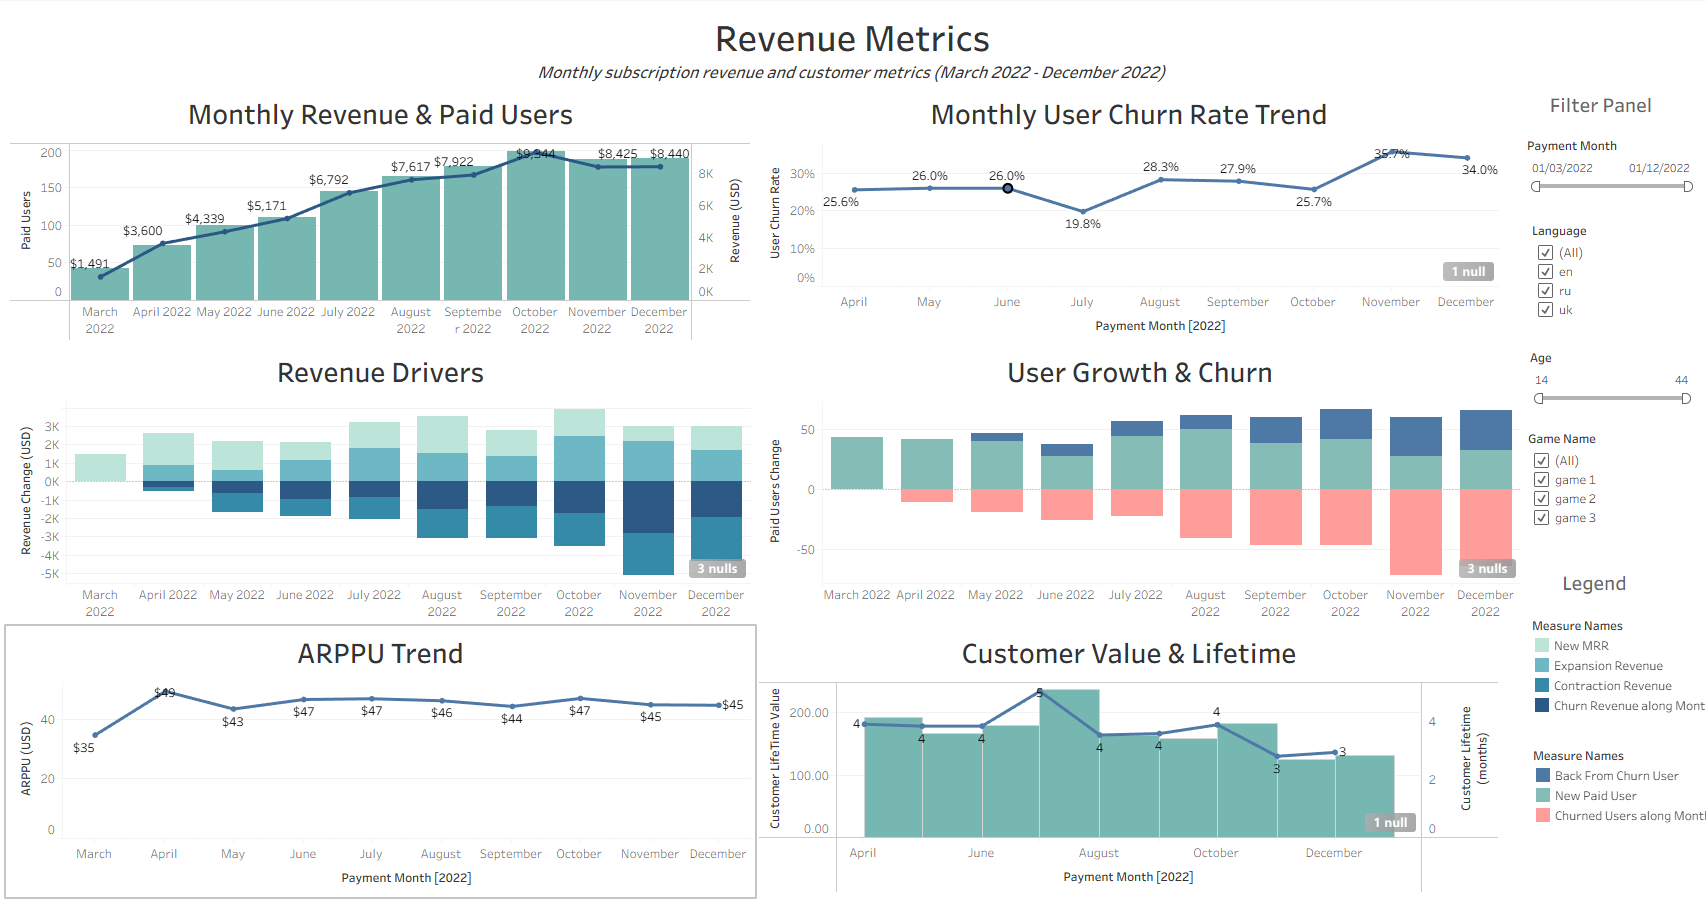

The dashboard page shown, as its layout file describes it:
{"tool":"tableau","page":{"name":"Revenue Metrics","canvas":[1000,1000],"units":"permille","ordinal":0},"visuals":[{"type":"title","box":[4.7,8.8,990.6,86.3]},{"type":"worksheet","title":"Monthly Revenue & Paid Users","mark":"Automatic","rows":["Calculation_0560770256478209","Calculation_0560770256314368"],"cols":["payment_month"],"box":[4.7,95.1,438.4,285.1]},{"type":"worksheet","title":"Monthly User Churn Rate Trend","mark":"Line","rows":["Calculation_0906017296060420"],"cols":["payment_month"],"box":[443.1,95.1,437.8,285.1]},{"type":"text","box":[880.8,95.1,114.5,37.6]},{"type":"filter","title":"Monthly Revenue & Paid Users","param":"[federated.0d8933y1ne9ctv16lr4j911y9343].[none:payment_month:qk]","box":[894.4,150.4,99.6,76.3]},{"type":"filter","title":"Monthly Revenue & Paid Users","param":"[federated.0d8933y1ne9ctv16lr4j911y9343].[none:language:nk]","box":[897.4,244.5,83.6,119.5]},{"type":"worksheet","title":"Revenue Drivers","mark":"Bar","cols":["payment_month"],"box":[4.7,380.2,438.4,311.5]},{"type":"worksheet","title":"User Growth & Churn","mark":"Bar","cols":["payment_month"],"box":[443.1,380.2,450.8,311.5]},{"type":"filter","title":"Monthly Revenue & Paid Users","param":"[federated.0d8933y1ne9ctv16lr4j911y9343].[none:age:qk]","box":[893.9,380.2,101.5,87.4]},{"type":"filter","title":"Monthly Revenue & Paid Users","param":"[federated.0d8933y1ne9ctv16lr4j911y9343].[none:game_name:nk]","box":[895,474.6,99.6,119.5]},{"type":"text","box":[902.1,609.5,64.1,66.4]},{"type":"worksheet","title":"ARPPU Trend","mark":"Automatic","rows":["Calculation_0560770256687106"],"cols":["payment_month"],"box":[4.7,691.7,438.4,299.4]},{"type":"worksheet","title":"Customer Value & Lifetime","mark":"Line","cols":["payment_month"],"box":[443.1,691.7,437.8,299.4]}]}

Visuals, with their boxes on the dashboard's canvas, which has no fixed pixel size, in thousandths of its width and height (x1, y1, x2, y2). These are canvas units, not pixel positions in the 1706x905 screenshot, which may show the page scaled, cropped or inside an application window:
title: bbox(5, 9, 995, 95)
"Monthly Revenue & Paid Users" worksheet: bbox(5, 95, 443, 380)
"Monthly User Churn Rate Trend" worksheet (Line marks): bbox(443, 95, 881, 380)
text: bbox(881, 95, 995, 133)
"Monthly Revenue & Paid Users" filter: bbox(894, 150, 994, 227)
"Monthly Revenue & Paid Users" filter: bbox(897, 244, 981, 364)
"Revenue Drivers" worksheet (Bar marks): bbox(5, 380, 443, 692)
"User Growth & Churn" worksheet (Bar marks): bbox(443, 380, 894, 692)
"Monthly Revenue & Paid Users" filter: bbox(894, 380, 995, 468)
"Monthly Revenue & Paid Users" filter: bbox(895, 475, 995, 594)
text: bbox(902, 610, 966, 676)
"ARPPU Trend" worksheet: bbox(5, 692, 443, 991)
"Customer Value & Lifetime" worksheet (Line marks): bbox(443, 692, 881, 991)
